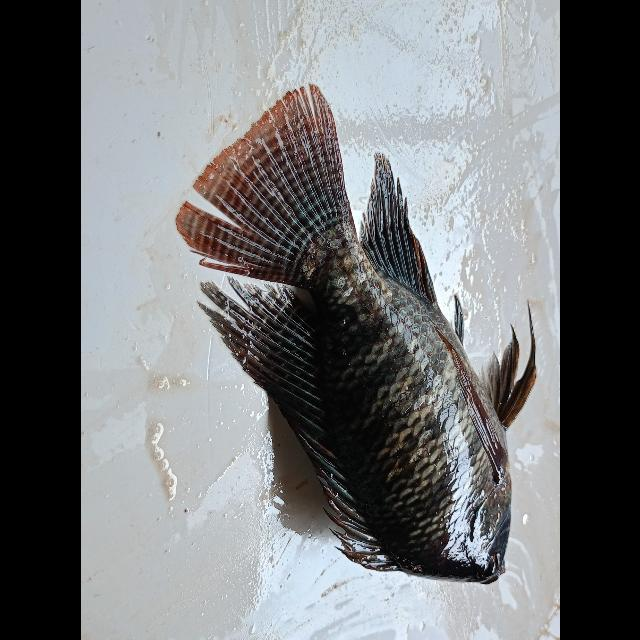Tilapia: (176, 82, 542, 586)
